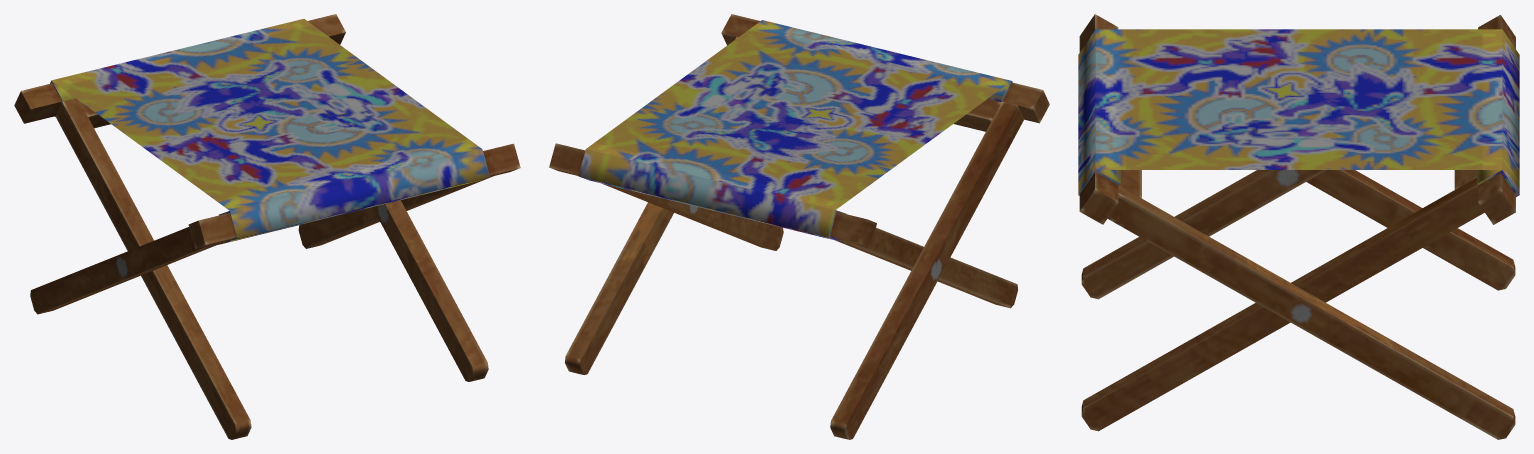
The model's file is pi_chair01_dlc1_04_02.gltf.
3 views of the same model, side by side, from view 1: azimuth 30°, elevation 25°; view 2: azimuth 150°, elevation 25°; view 3: azimuth 270°, elevation 25° (orthographic). The views are drawn at different scales.
Visible parts, largest first — view 1: pi_chair01_dlc1_04_02_mesh_shape:pi_chair01_dlc1_13_main; view 2: pi_chair01_dlc1_04_02_mesh_shape:pi_chair01_dlc1_13_main; view 3: pi_chair01_dlc1_04_02_mesh_shape:pi_chair01_dlc1_13_main.
Boxes of the visible parts, x1,y1,x2,y2 form: pi_chair01_dlc1_04_02_mesh_shape:pi_chair01_dlc1_13_main: (14, 14, 520, 439); pi_chair01_dlc1_04_02_mesh_shape:pi_chair01_dlc1_13_main: (549, 14, 1049, 439); pi_chair01_dlc1_04_02_mesh_shape:pi_chair01_dlc1_13_main: (1078, 14, 1519, 439).
Size of what is drawn, in the model's own units: 0.4989 by 0.3463 by 0.53.
1 material, 1 textured.
